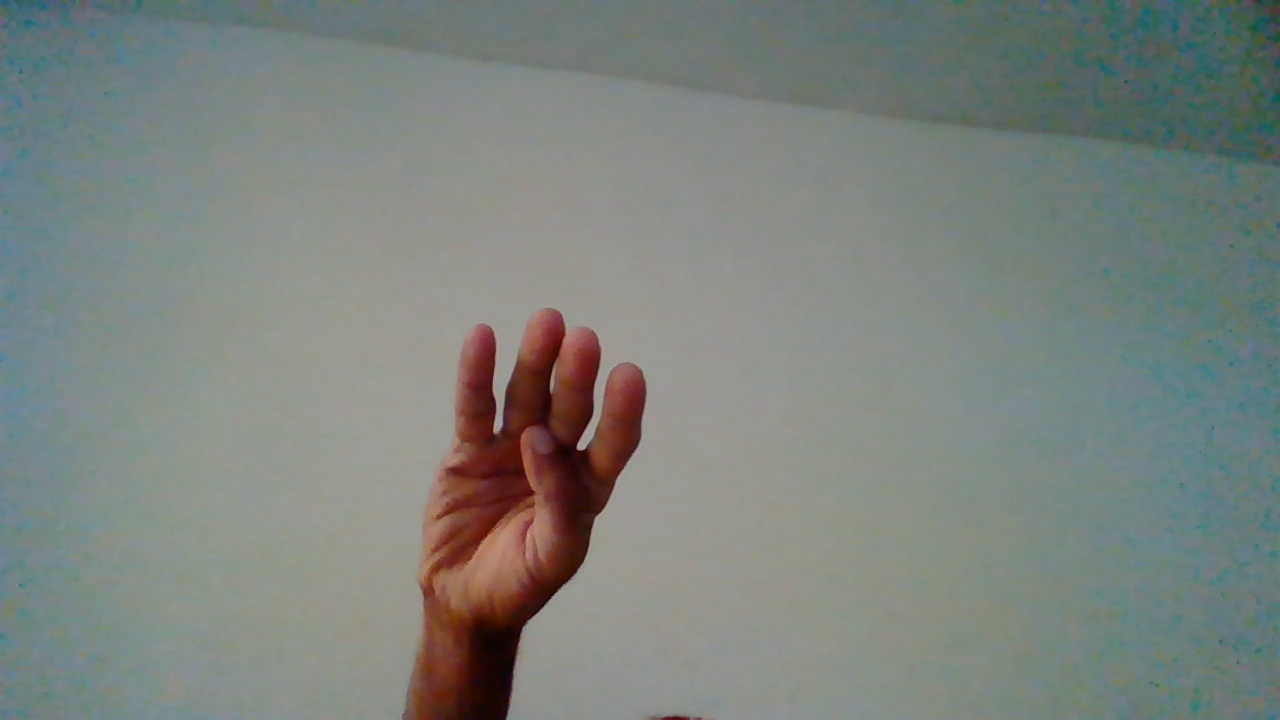me: (396, 309, 659, 693)
